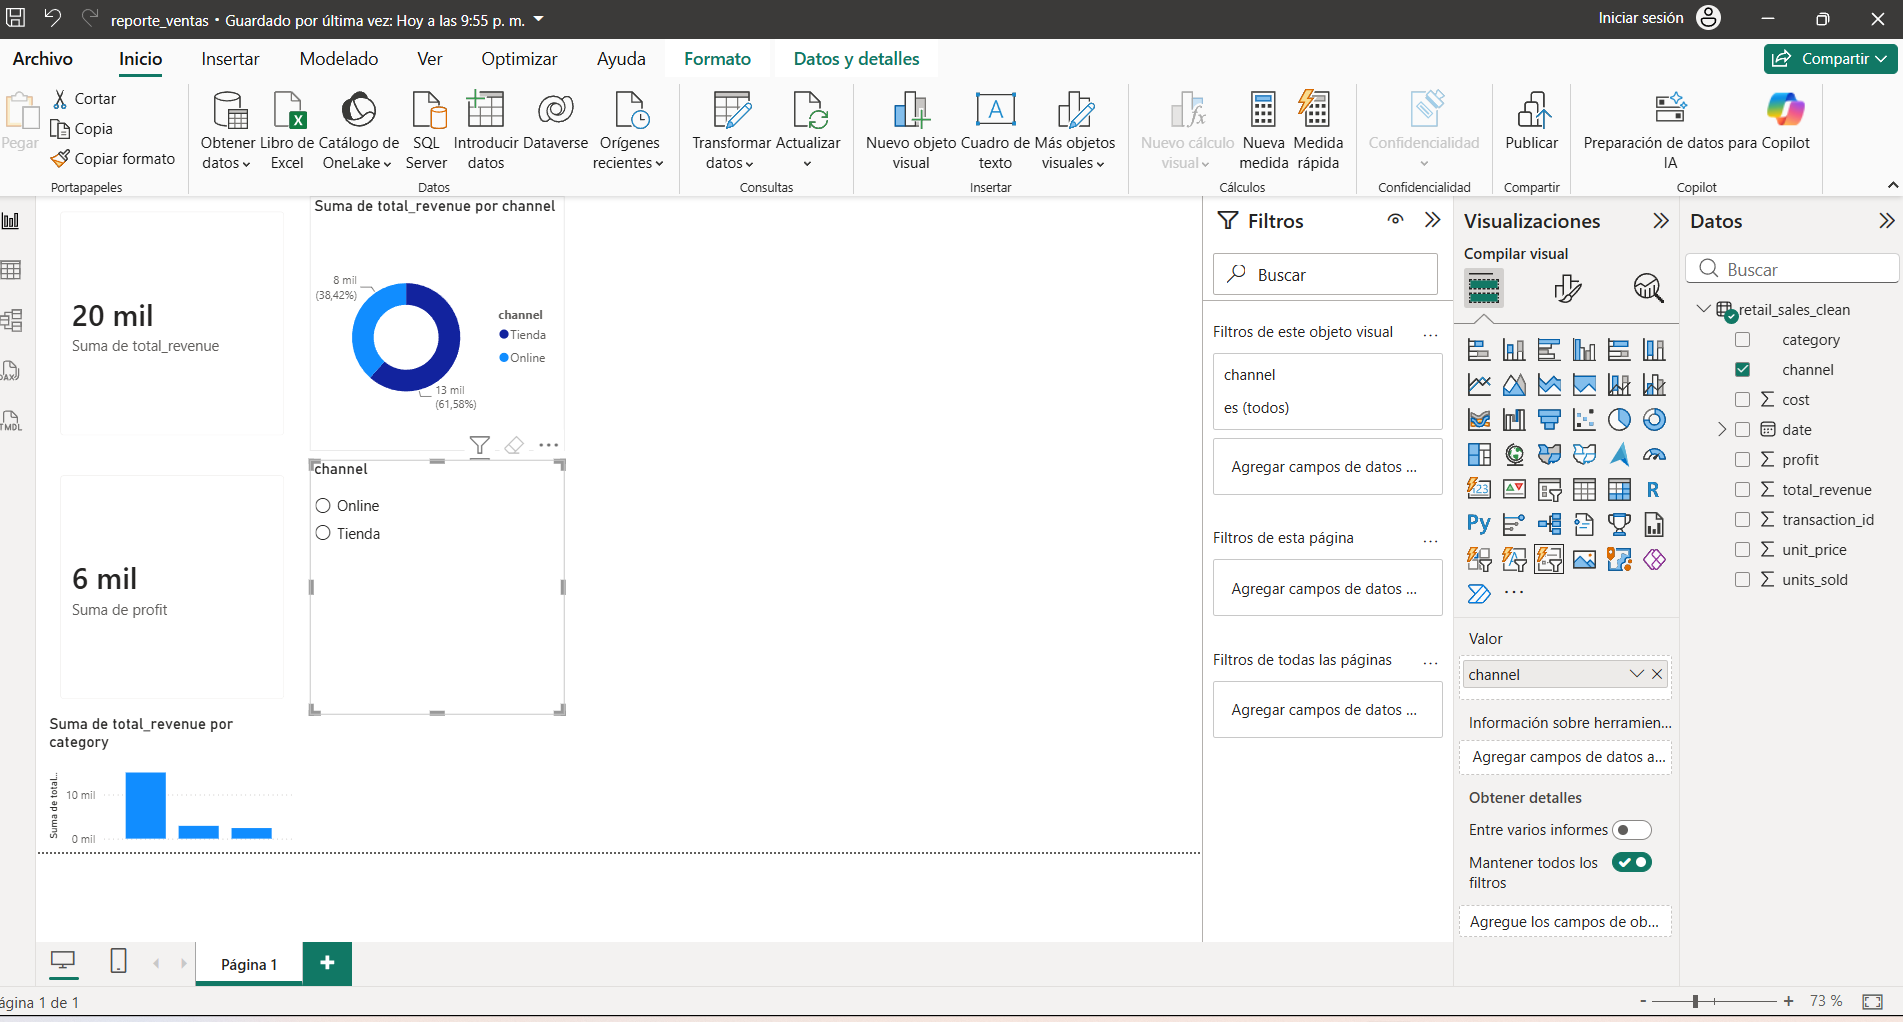

The page's visual inventory and layout, read from the dashboard file:
{"tool":"powerbi","page":{"name":"Página 1","canvas":[1280,720],"ordinal":0},"visuals":[{"type":"cardVisual","fields":{"Data":["Sum(retail_sales_clean.total_revenue)","Sum(retail_sales_clean.total_revenue)"]},"box":[10,0,280,280],"z":0},{"type":"cardVisual","fields":{"Data":["Sum(retail_sales_clean.profit)"]},"box":[10,290,280,280],"z":1000},{"type":"clusteredColumnChart","fields":{"Category":["retail_sales_clean.category"],"Y":["Sum(retail_sales_clean.total_revenue)"]},"box":[10,570,280,150],"z":1001},{"type":"donutChart","fields":{"Category":["retail_sales_clean.channel"],"Y":["Sum(retail_sales_clean.total_revenue)"]},"box":[300,0,280,280],"z":1002},{"type":"listSlicer","fields":{"Values":["retail_sales_clean.channel"]},"box":[300,290,280,280],"z":1003}]}

Visuals, with their boxes on the page's 1280x720 design canvas (x1, y1, x2, y2). These are canvas units, not pixel positions in the 1903x1022 screenshot, which may show the page scaled, cropped or inside an application window:
cardVisual - Sum(retail_sales_clean.total_revenue) x Sum(retail_sales_clean.total_revenue): detection(10, 0, 290, 280)
cardVisual - Sum(retail_sales_clean.profit): detection(10, 290, 290, 570)
clusteredColumnChart - retail_sales_clean.category x Sum(retail_sales_clean.total_revenue): detection(10, 570, 290, 720)
donutChart - retail_sales_clean.channel x Sum(retail_sales_clean.total_revenue): detection(300, 0, 580, 280)
listSlicer - retail_sales_clean.channel: detection(300, 290, 580, 570)
